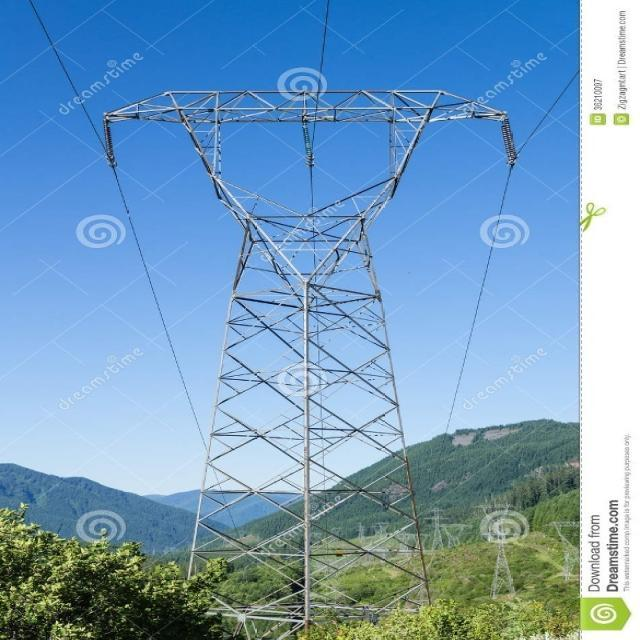non-critical vegetation: (72, 53, 477, 560)
